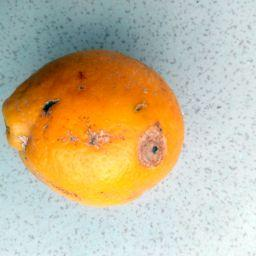Unripe: (3, 49, 183, 205)
